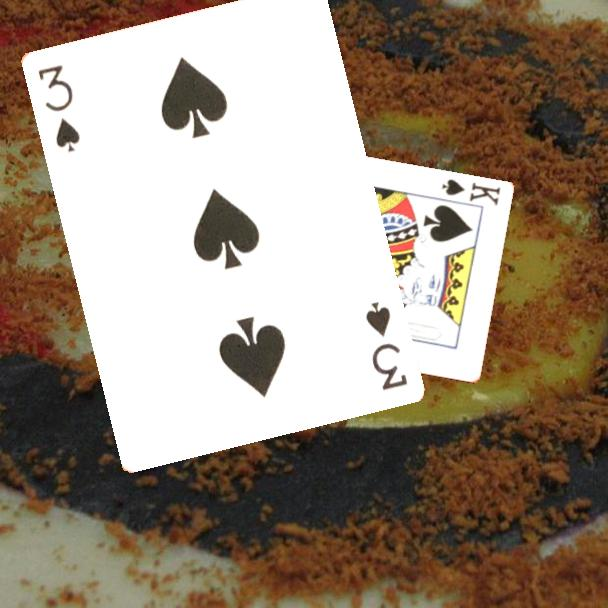s03: (361, 298, 410, 393), (34, 60, 83, 154)
s13: (438, 176, 503, 209)
